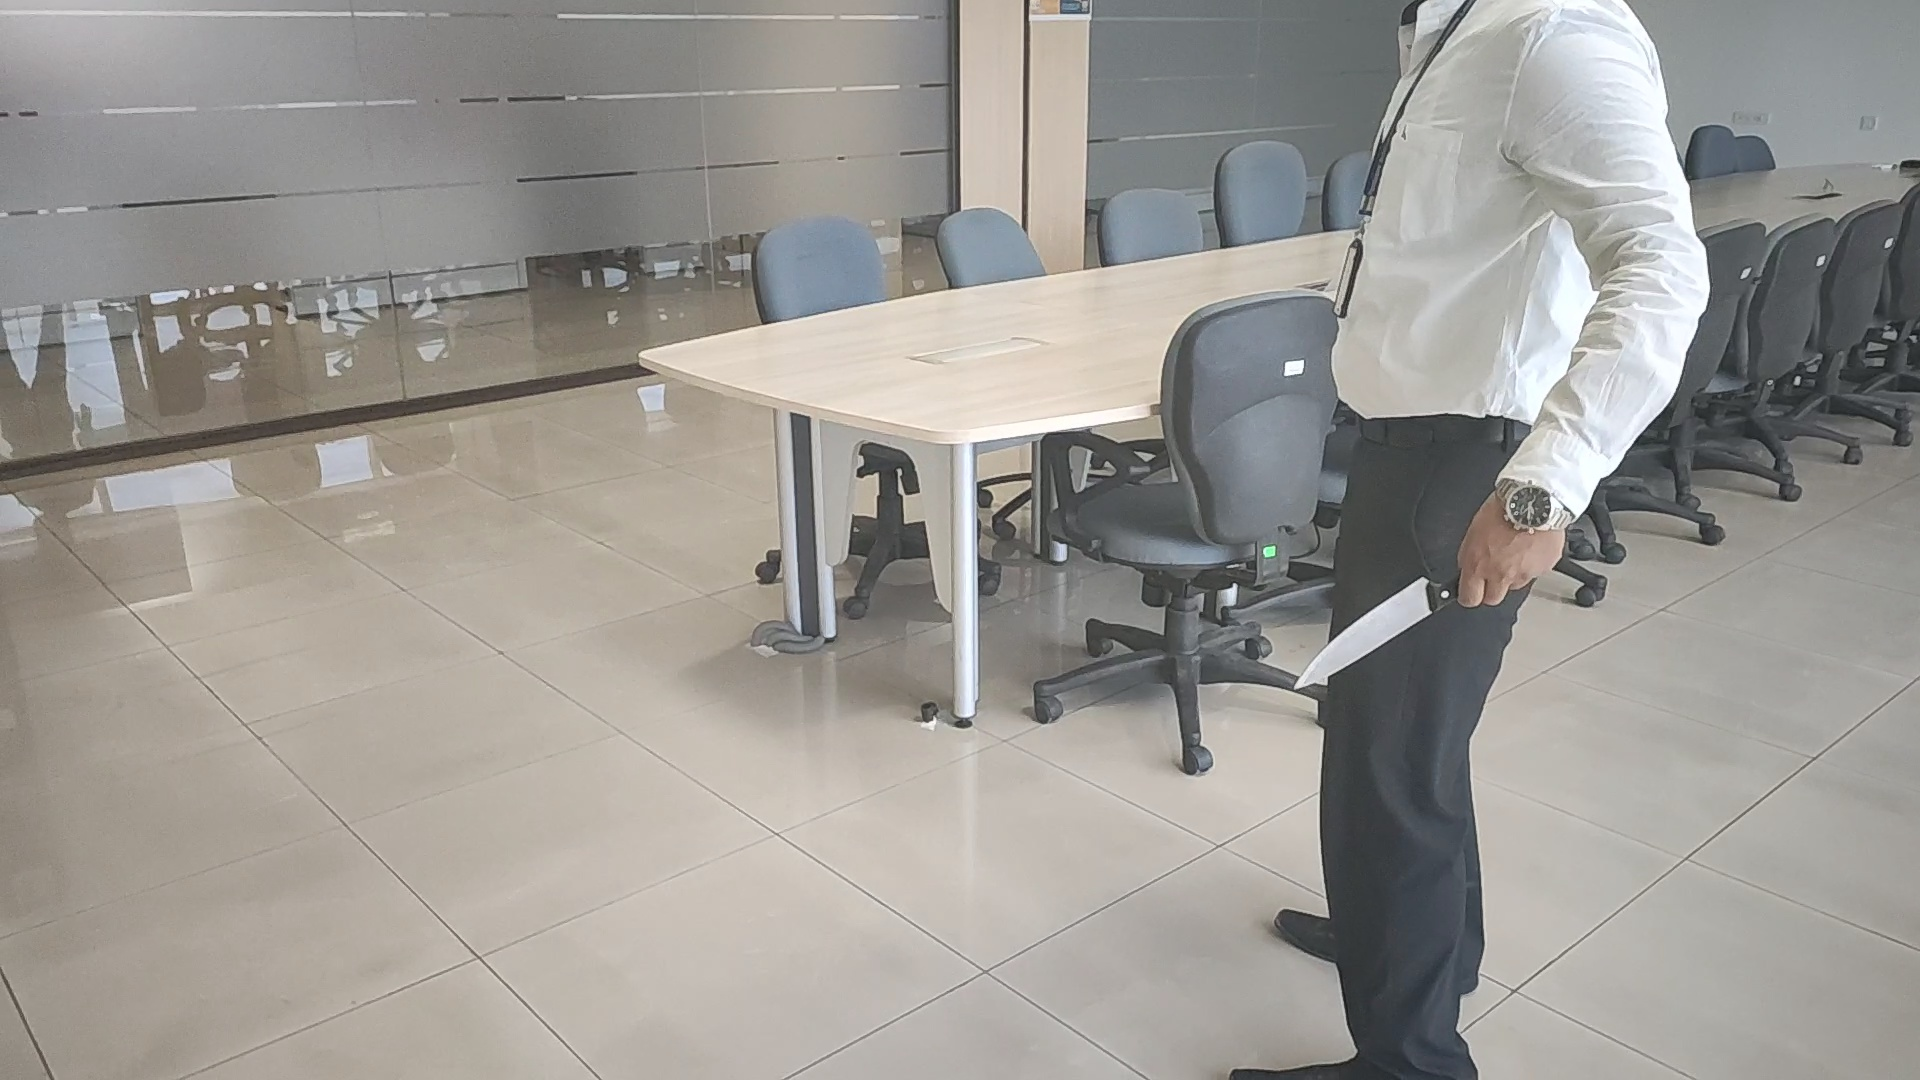knife: (1290, 567, 1456, 692)
